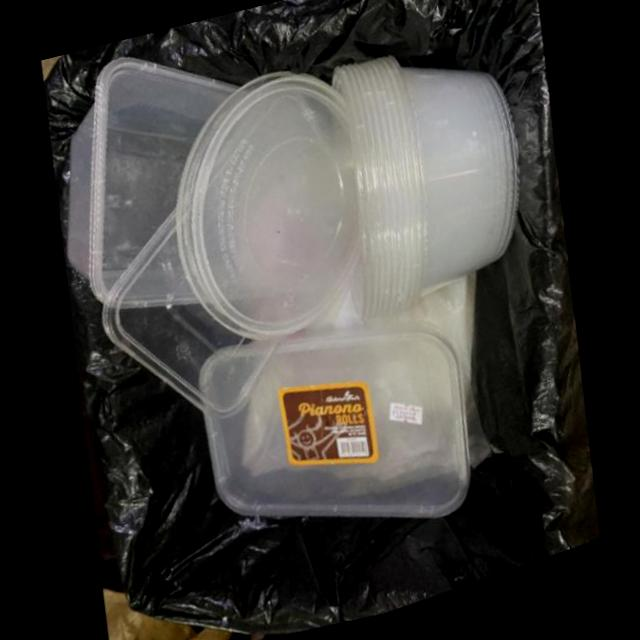hop_nhua: (197, 319, 471, 525), (173, 76, 362, 342), (330, 63, 520, 325), (65, 59, 238, 312), (101, 213, 283, 422)
